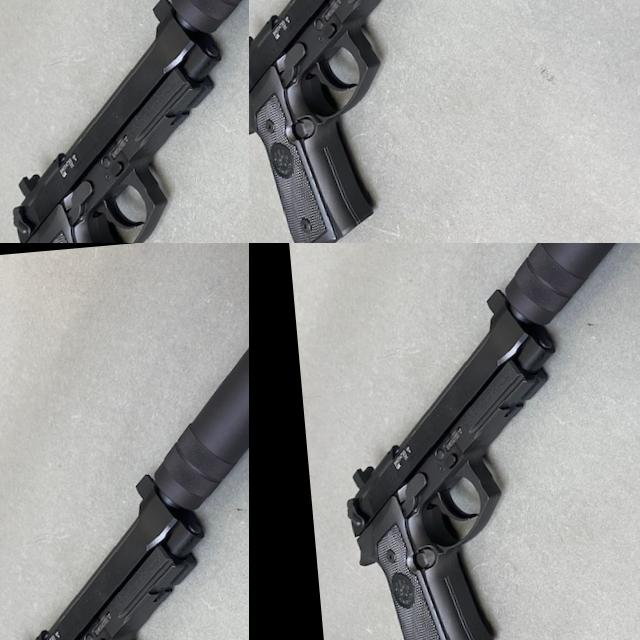handgun: (324, 275, 592, 640), (484, 0, 640, 243), (40, 0, 94, 50)
